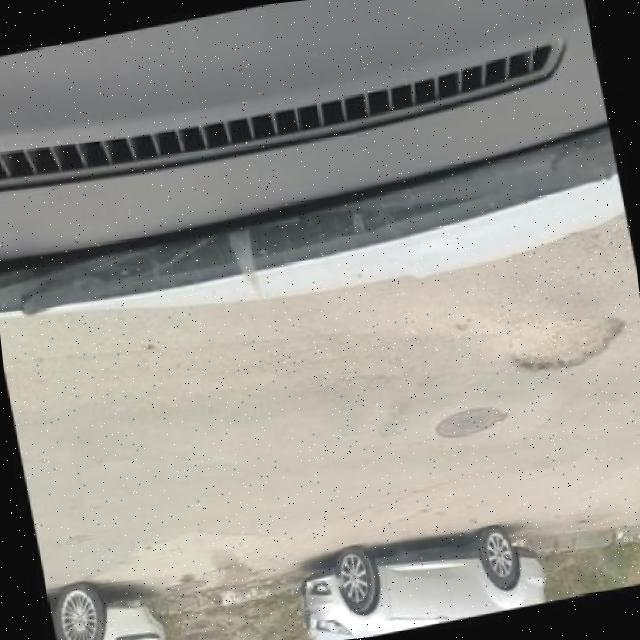Pothole: (505, 314, 625, 371)
